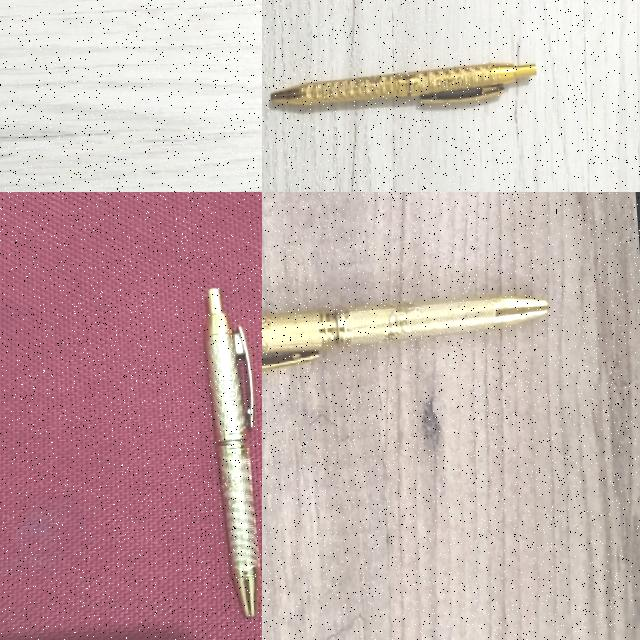signature pen: (262, 297, 548, 369), (203, 283, 262, 620), (272, 63, 536, 105)
